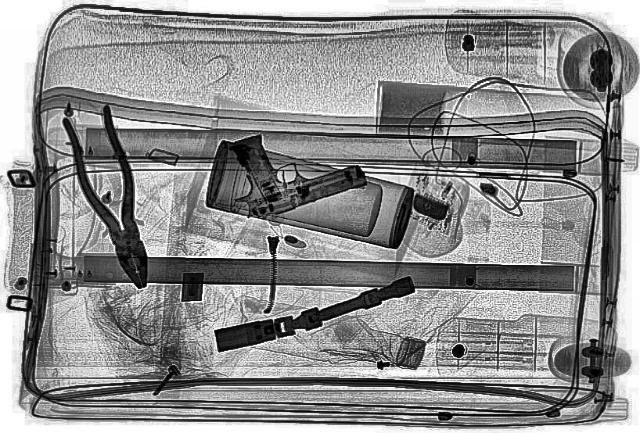Gun: (197, 110, 373, 224)
Pliers: (52, 103, 166, 291)
